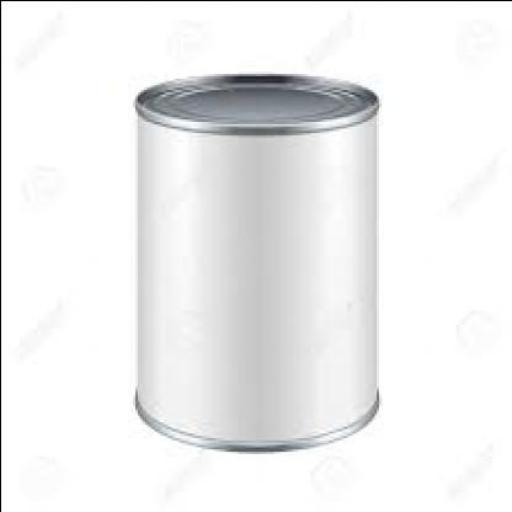metal: (132, 73, 378, 448)
